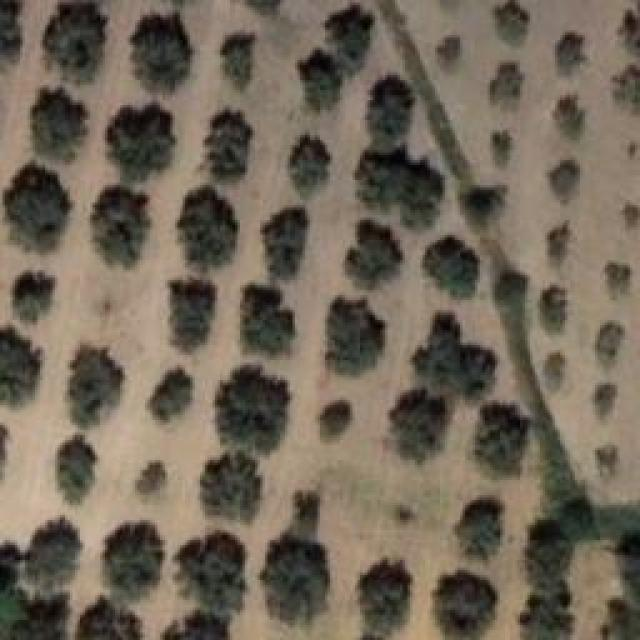Tree: (413, 312, 496, 397), (260, 533, 330, 623), (218, 365, 289, 452), (5, 163, 73, 251), (175, 533, 245, 610), (178, 185, 239, 270), (43, 3, 107, 84), (108, 105, 174, 182), (92, 188, 150, 269), (68, 345, 124, 427), (328, 298, 387, 375), (132, 13, 190, 91), (390, 387, 450, 462), (105, 523, 164, 599), (358, 560, 413, 640), (433, 572, 496, 640), (200, 452, 261, 522), (33, 88, 89, 161), (25, 518, 81, 591), (475, 405, 531, 475), (345, 220, 403, 287), (243, 285, 294, 356), (423, 235, 479, 297), (518, 523, 572, 587), (400, 160, 447, 233), (515, 585, 578, 639), (368, 75, 412, 151), (326, 5, 378, 69), (205, 110, 253, 178), (0, 328, 41, 406), (173, 280, 218, 351), (263, 208, 307, 279), (455, 498, 503, 558), (77, 597, 142, 640), (358, 150, 405, 208), (58, 435, 98, 503), (290, 134, 333, 196), (10, 595, 68, 640), (298, 55, 345, 109), (152, 609, 233, 640), (150, 368, 194, 421), (13, 273, 56, 324), (460, 185, 505, 228), (597, 595, 640, 639), (223, 35, 255, 90), (495, 0, 531, 44), (490, 62, 525, 106), (553, 95, 586, 138), (550, 160, 581, 205), (612, 65, 640, 113), (320, 400, 353, 440), (555, 33, 586, 74), (543, 350, 571, 395), (595, 323, 624, 366), (543, 285, 568, 332), (495, 270, 528, 305), (620, 0, 640, 55), (0, 542, 22, 591), (138, 463, 168, 496), (605, 263, 631, 300), (593, 383, 618, 420), (438, 35, 463, 70), (547, 223, 567, 266), (595, 445, 619, 478), (493, 130, 514, 166), (622, 203, 640, 226)
